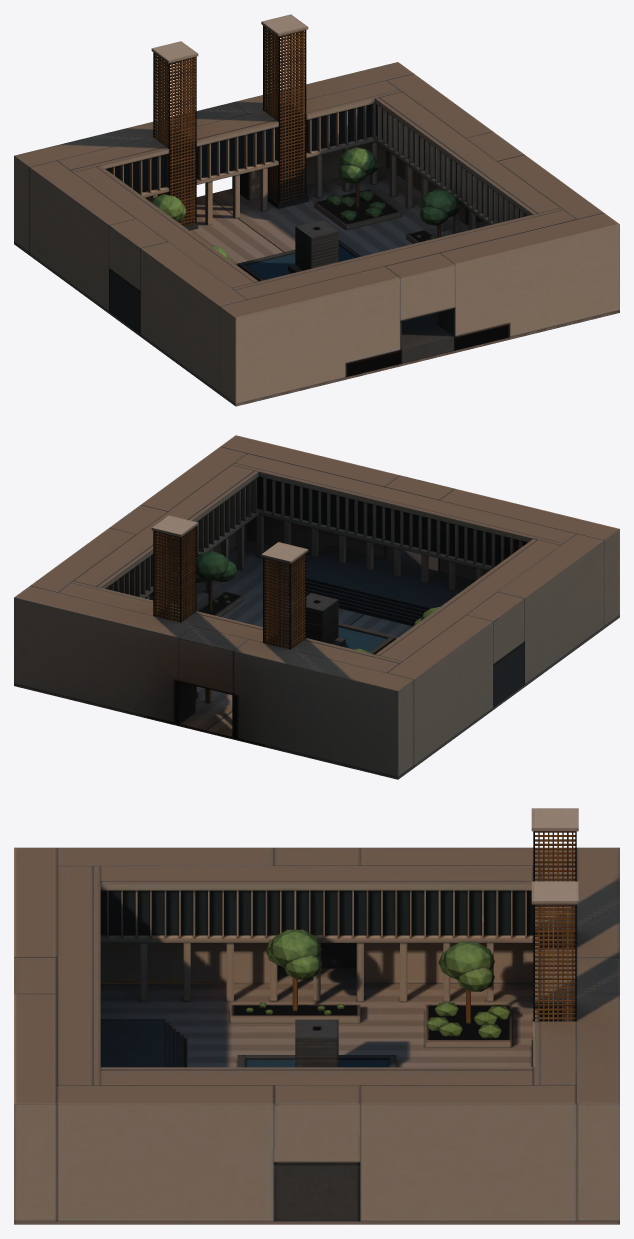
The model's file is court.glb.
3 views of the same model, one above another, from view 1: azimuth 30°, elevation 25°; view 2: azimuth 150°, elevation 25°; view 3: azimuth 270°, elevation 25° (orthographic). The views are drawn at different scales.
Parts seen in each view (by area): view 1: CT_static, CT_stratum_12; view 2: CT_static; view 3: CT_static, CT_stratum_12.
Boxes of the visible parts, bbox=[...] form: CT_static: bbox=[14, 14, 619, 406]; CT_stratum_12: bbox=[295, 219, 338, 240]; CT_static: bbox=[14, 435, 619, 779]; CT_static: bbox=[14, 808, 619, 1224]; CT_stratum_12: bbox=[295, 1019, 338, 1041].
Size of the model in its own units: 50.4 by 22.2 by 50.4.
Materials: 1 (1 with a texture image).
